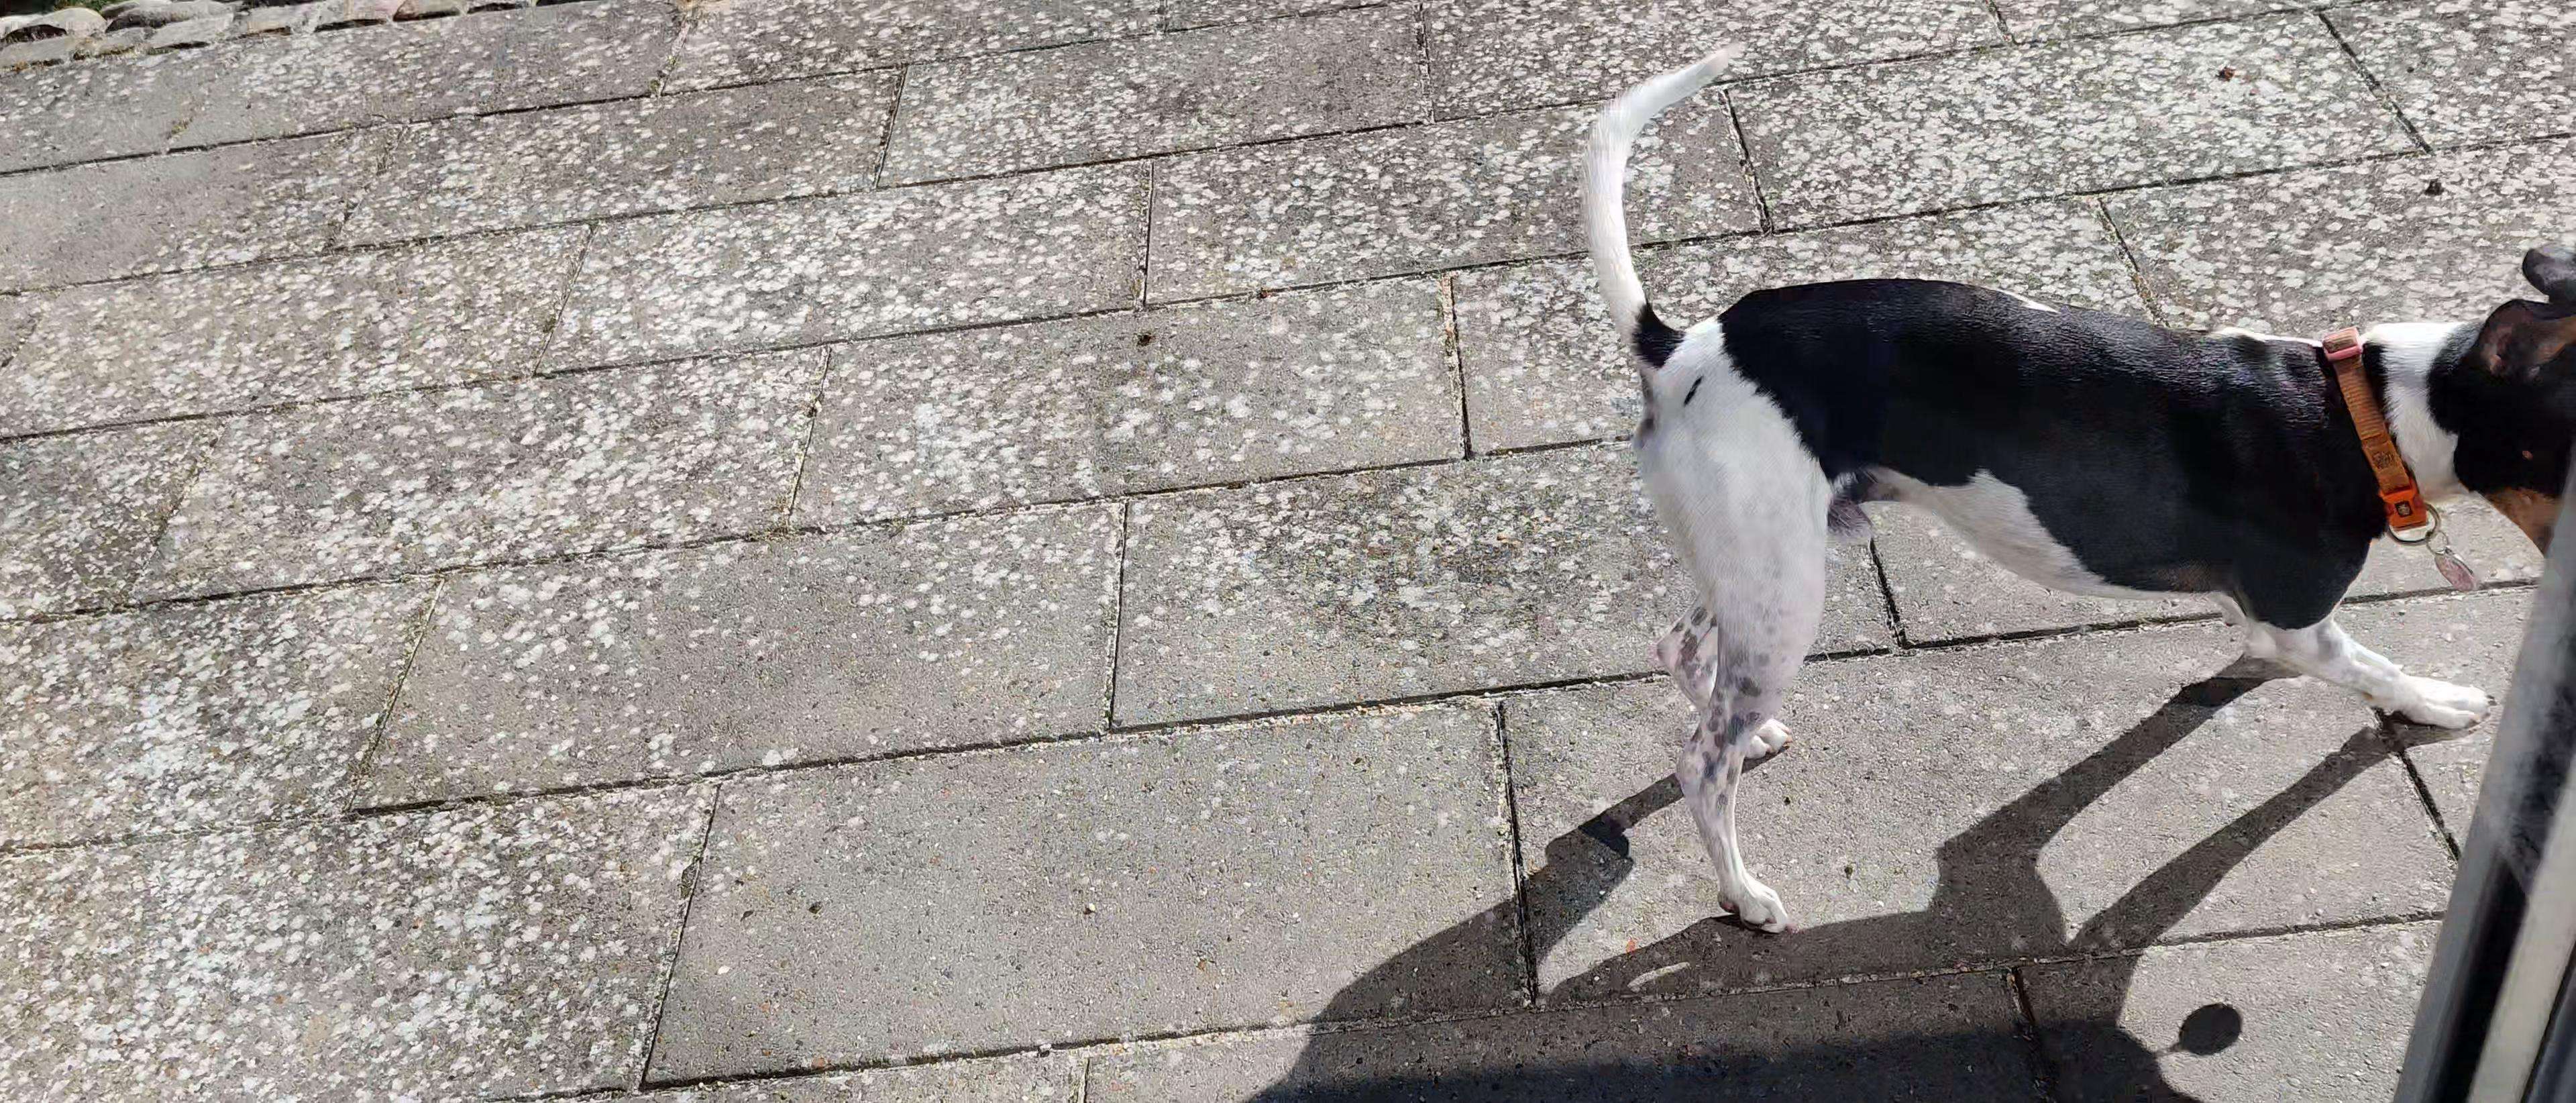Dog: (1572, 43, 2576, 942)
